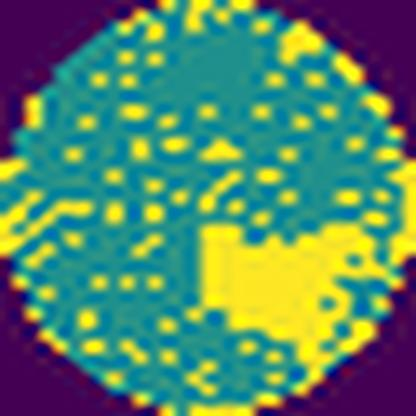Edge-Loc: (193, 217, 395, 369)
